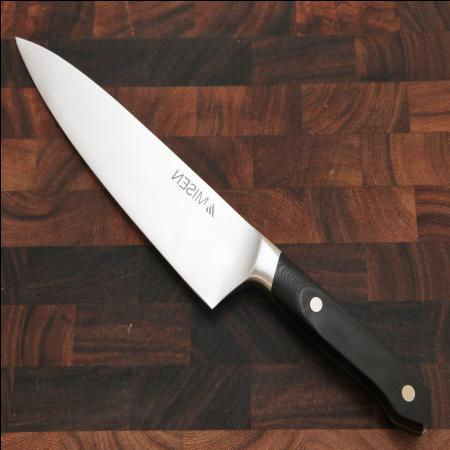long weapon: (9, 29, 282, 316)
